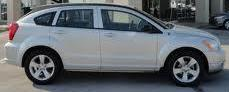backlight: (5, 20, 26, 47)
headlight: (203, 33, 221, 53)
side_glass: (56, 7, 171, 37)
